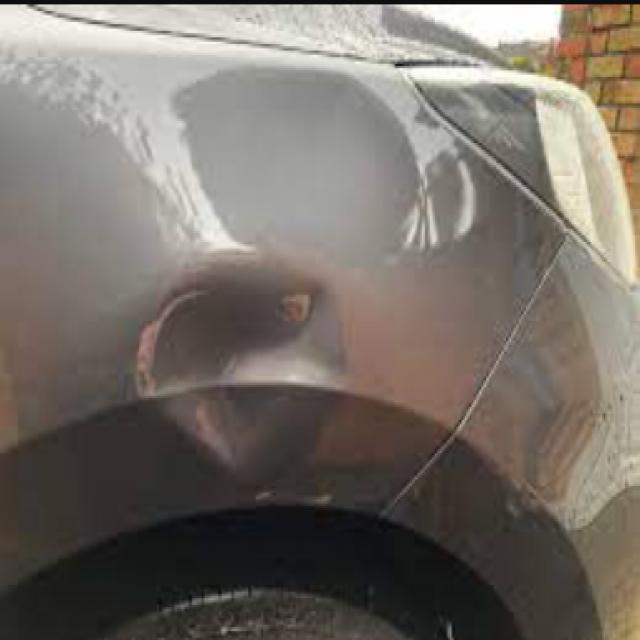dents: (138, 238, 351, 486)
